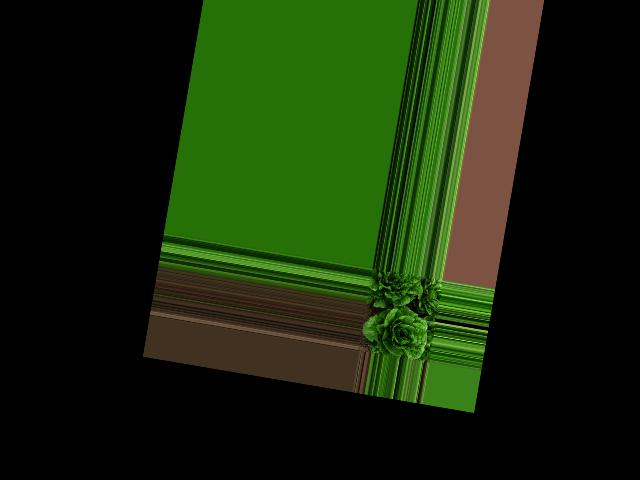lettuce: (368, 267, 425, 309)
